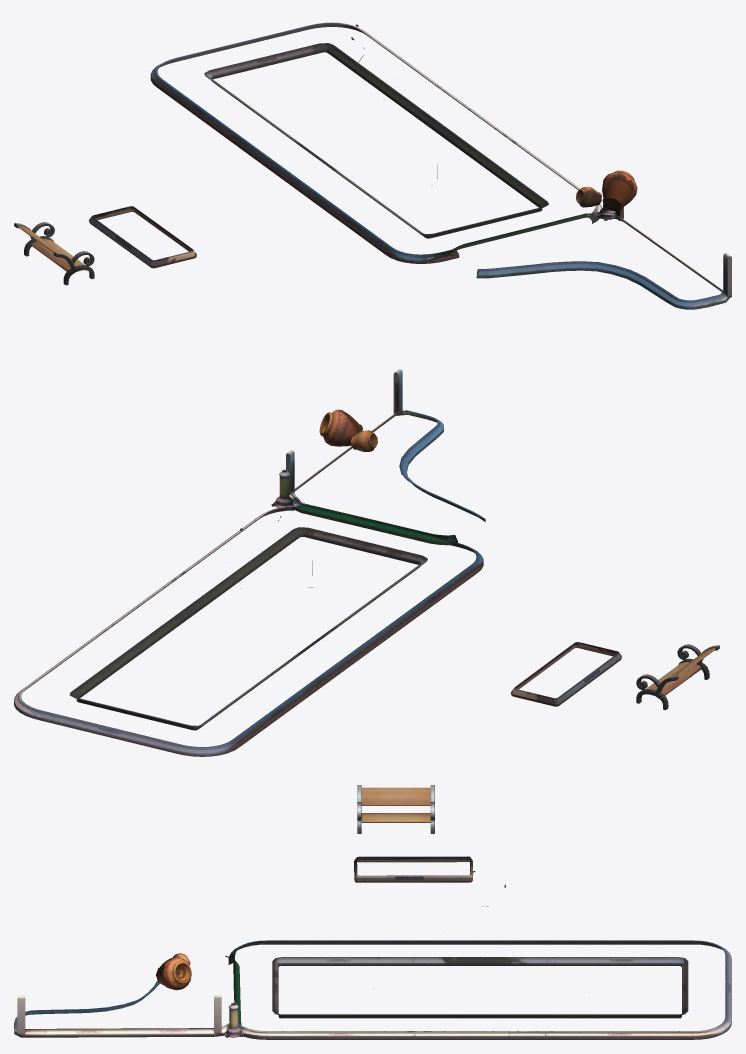
Rendered from pref_sm_garden_props_vray_008_lv0.fbx.
The picture shows the model from 3 angles, top to bottom: view 1: azimuth 30°, elevation 25°; view 2: azimuth 150°, elevation 25°; view 3: azimuth 270°, elevation 25°; orthographic projection. The views are drawn at different scales.
Parts seen in each view (by area): view 1: sm_garden_props_vray_008_lv0; view 2: sm_garden_props_vray_008_lv0; view 3: sm_garden_props_vray_008_lv0.
Part boxes in pixels (<box>): sm_garden_props_vray_008_lv0: <box>14,22,731,309</box>; sm_garden_props_vray_008_lv0: <box>14,369,719,756</box>; sm_garden_props_vray_008_lv0: <box>14,785,731,1039</box>.
Size of the model in its own units: 20.91 by 5.56 by 28.32.
